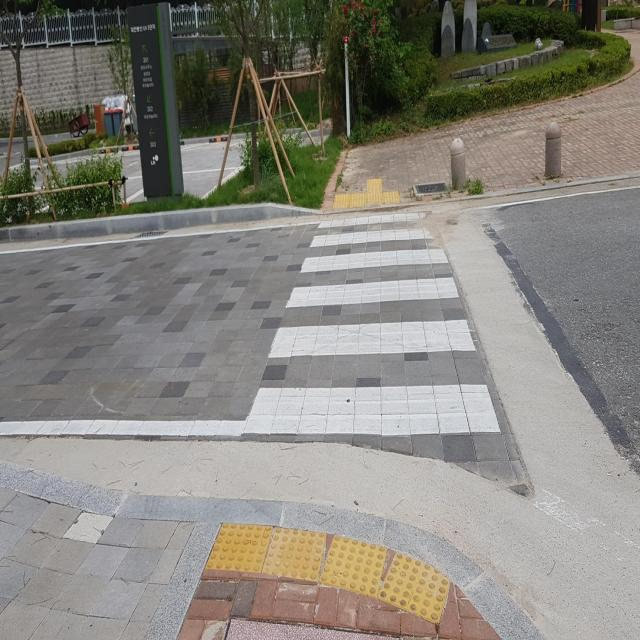횡단보도: (240, 210, 503, 440)
